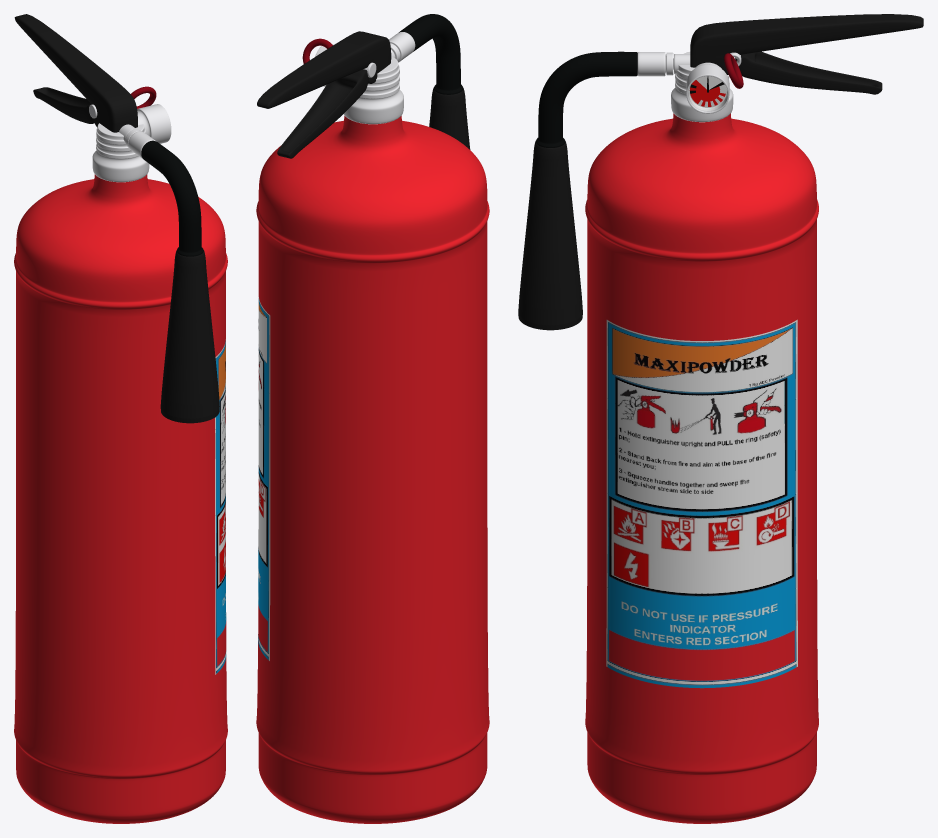
The picture shows the model from 3 angles, left to right: view 1: azimuth 30°, elevation 25°; view 2: azimuth 150°, elevation 25°; view 3: azimuth 270°, elevation 25°; orthographic projection. The views are drawn at different scales.
Visible parts, largest first — view 1: FE_1_Circle, FE_6_Circle.009, FE_7_Cube, FE_2_Circle.002, FE_8_Circle.008; view 2: FE_1_Circle, FE_7_Cube, FE_2_Circle.002, FE_8_Circle.008, FE_6_Circle.009; view 3: FE_1_Circle, FE_7_Cube, FE_6_Circle.009, FE_8_Circle.008, FE_2_Circle.002, FE_4_Circle.007.
Part boxes in pixels (left/top/right/bottom): FE_1_Circle: left=14, top=174, right=227, bottom=823; FE_6_Circle.009: left=160, top=250, right=219, bottom=423; FE_7_Cube: left=14, top=14, right=137, bottom=132; FE_2_Circle.002: left=89, top=104, right=171, bottom=182; FE_8_Circle.008: left=141, top=140, right=203, bottom=256; FE_1_Circle: left=256, top=116, right=489, bottom=823; FE_7_Cube: left=257, top=31, right=391, bottom=158; FE_2_Circle.002: left=315, top=32, right=415, bottom=124; FE_8_Circle.008: left=399, top=14, right=462, bottom=94; FE_6_Circle.009: left=429, top=87, right=470, bottom=149; FE_1_Circle: left=585, top=113, right=818, bottom=823; FE_7_Cube: left=690, top=14, right=923, bottom=94; FE_6_Circle.009: left=518, top=140, right=582, bottom=330; FE_8_Circle.008: left=536, top=51, right=637, bottom=147; FE_2_Circle.002: left=637, top=52, right=741, bottom=122; FE_4_Circle.007: left=688, top=76, right=727, bottom=110.
Bounding box in the file's own units: 2.56 × 9.26 × 4.44.
9 materials, 1 textured.
